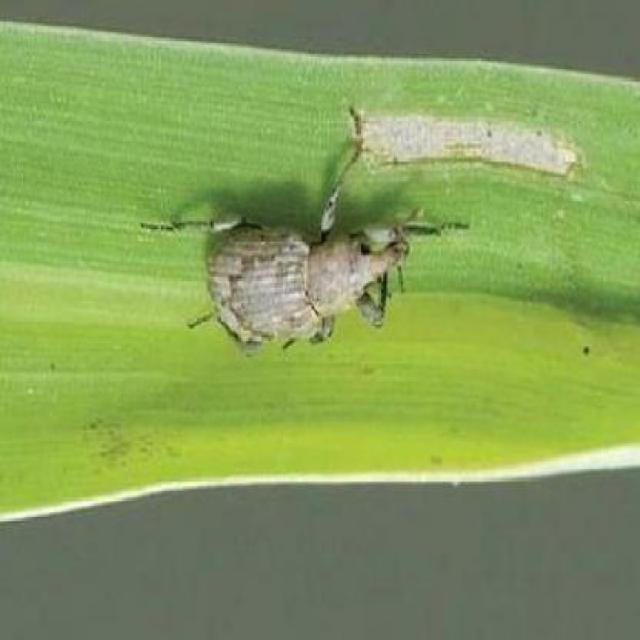rice-bug: (196, 132, 422, 360)
